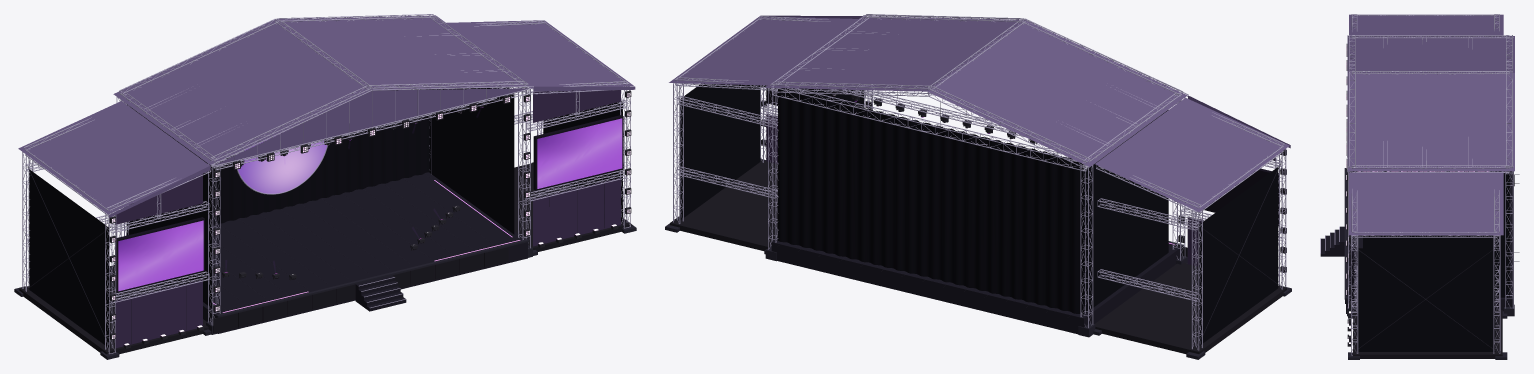
The model's file is stage.glb.
3 views of the same model, side by side, from view 1: azimuth 30°, elevation 25°; view 2: azimuth 150°, elevation 25°; view 3: azimuth 270°, elevation 25° (orthographic). The views are drawn at different scales.
Parts seen in each view (by area): view 1: Purple tinted roof membrane, Black velvet backdrop, Charcoal stage deck, Satin aluminium trusses, Plain purple side facade, Abstract violet LED screen, Dark stage fascia, Lighting fixture housing, Graphite steel, Display bezel, Lavender luminous lenses; view 2: Black velvet backdrop, Purple tinted roof membrane, Satin aluminium trusses, Dark stage fascia, Charcoal stage deck, Graphite steel, Lighting fixture housing, Plain purple side facade, Display bezel; view 3: Purple tinted roof membrane, Black velvet backdrop, Satin aluminium trusses, Charcoal stage deck, Dark stage fascia, Graphite steel, Lighting fixture housing, Display bezel, Lavender luminous lenses.
Boxes of the visible parts, x1,y1,x2,y2 form: Purple tinted roof membrane: (18, 15, 635, 217); Black velvet backdrop: (29, 87, 622, 347); Charcoal stage deck: (155, 172, 527, 333); Satin aluminium trusses: (22, 14, 630, 354); Plain purple side facade: (115, 90, 620, 348); Abstract violet LED screen: (118, 118, 622, 291); Dark stage fascia: (19, 163, 631, 354); Lighting fixture housing: (109, 90, 631, 348); Graphite steel: (14, 88, 636, 359); Display bezel: (115, 115, 623, 292); Lavender luminous lenses: (112, 92, 630, 345); Black velvet backdrop: (680, 83, 1278, 345); Purple tinted roof membrane: (669, 15, 1290, 211); Satin aluminium trusses: (673, 14, 1286, 350); Dark stage fascia: (670, 159, 1286, 353); Charcoal stage deck: (771, 238, 1182, 334); Graphite steel: (665, 89, 1291, 359); Lighting fixture housing: (761, 85, 1286, 273); Plain purple side facade: (766, 114, 1275, 266); Display bezel: (766, 85, 1278, 226); Purple tinted roof membrane: (1348, 14, 1514, 235); Black velvet backdrop: (1358, 171, 1509, 351); Satin aluminium trusses: (1320, 14, 1513, 355); Charcoal stage deck: (1320, 170, 1513, 313); Dark stage fascia: (1345, 299, 1502, 358); Graphite steel: (1344, 168, 1519, 359); Lighting fixture housing: (1346, 44, 1493, 346); Display bezel: (1350, 171, 1505, 300); Lavender luminous lenses: (1346, 21, 1350, 343).
Size of what is drawn, in the model's own units: 46.25 by 17.28 by 17.56.
